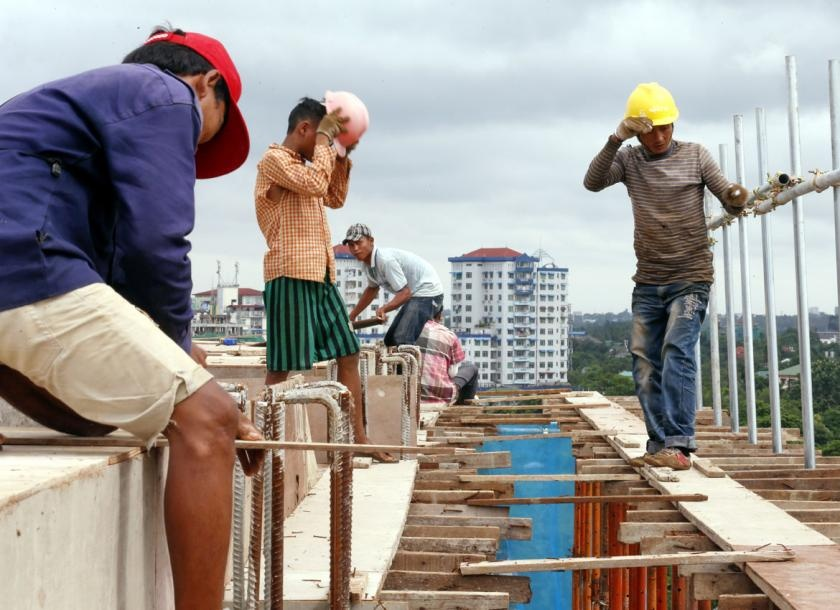none: (283, 95, 324, 158), (345, 223, 371, 261)
red: (128, 30, 227, 151)
yellow: (622, 82, 676, 154)
